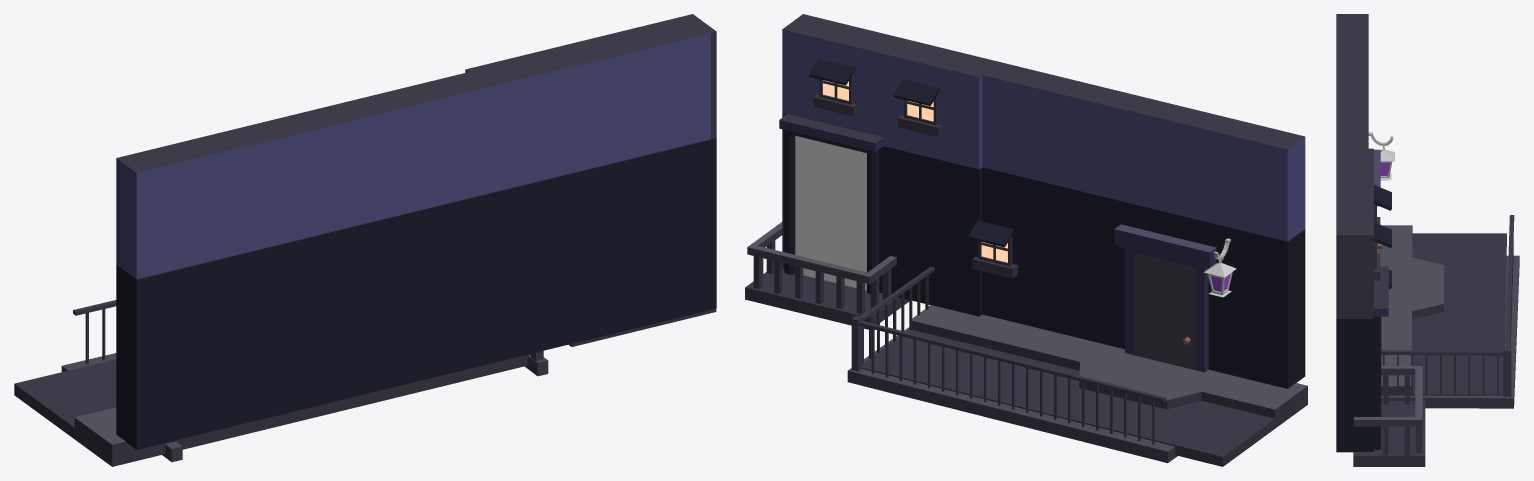
File: CMHome201.fbx
The picture shows the model from 3 angles, left to right: view 1: azimuth 30°, elevation 25°; view 2: azimuth 150°, elevation 25°; view 3: azimuth 270°, elevation 25°; orthographic projection. The views are drawn at different scales.
Visible parts, largest first — view 1: HomeFacade.001, BalconyBottom.021, BalconyRailing.085; view 2: HomeFacade.001, CornerHome_Door.031, Windows.041, BalconyBottom.021, CornerHome_DoorFrame.070, BalconyRailing.085, BalconyRailing.086, Lantern.019; view 3: HomeFacade.001, BalconyBottom.021, BalconyRailing.086, Windows.041, BalconyRailing.085, Lantern.019, CornerHome_DoorFrame.070.
Part boxes in pixels (x1=…): HomeFacade.001: x1=14, y1=14, x2=716, y2=466; BalconyBottom.021: x1=61, y1=353, x2=548, y2=462; BalconyRailing.085: x1=73, y1=300, x2=116, y2=364; HomeFacade.001: x1=745, y1=14, x2=1307, y2=466; CornerHome_Door.031: x1=1134, y1=253, x2=1195, y2=370; Windows.041: x1=809, y1=59, x2=1017, y2=278; BalconyBottom.021: x1=847, y1=327, x2=1177, y2=463; CornerHome_DoorFrame.070: x1=1114, y1=224, x2=1216, y2=372; BalconyRailing.085: x1=859, y1=320, x2=1166, y2=444; BalconyRailing.086: x1=851, y1=266, x2=934, y2=371; Lantern.019: x1=1204, y1=238, x2=1236, y2=297; HomeFacade.001: x1=1336, y1=14, x2=1506, y2=466; BalconyBottom.021: x1=1381, y1=255, x2=1519, y2=408; BalconyRailing.086: x1=1381, y1=348, x2=1511, y2=396; Windows.041: x1=1374, y1=185, x2=1391, y2=289; BalconyRailing.085: x1=1505, y1=215, x2=1514, y2=347; Lantern.019: x1=1368, y1=132, x2=1394, y2=180; CornerHome_DoorFrame.070: x1=1374, y1=149, x2=1380, y2=206.
Size of the model in its own units: 1836 by 877 by 616.
